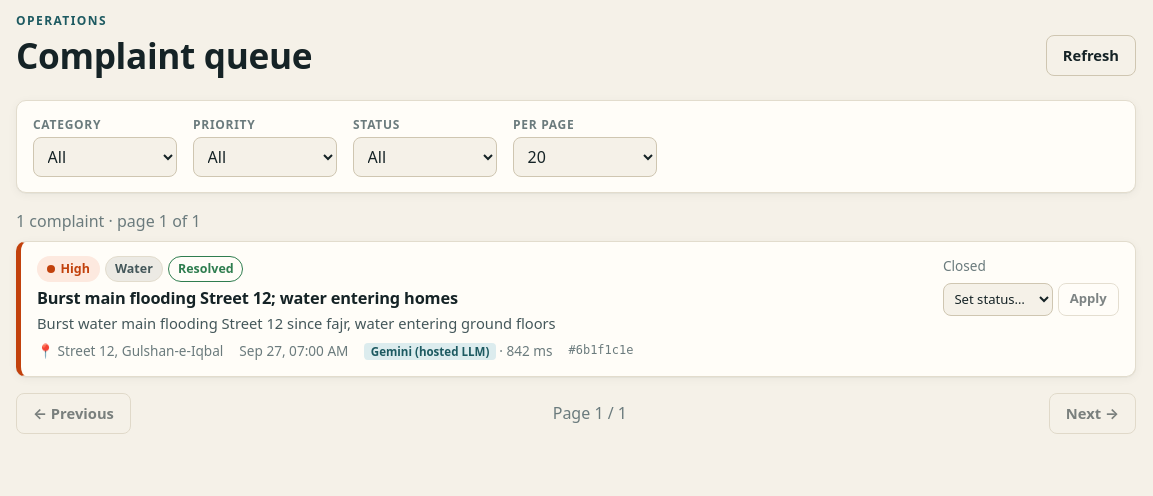
Scenario: DashboardPage › surfaces the server's 409 message verbatim, not a generic error
This screenshot has width=1153, height=496.
Select "In progress" in the dropdown named "set status manually": coordinates (998, 299) [943, 283, 1053, 316]
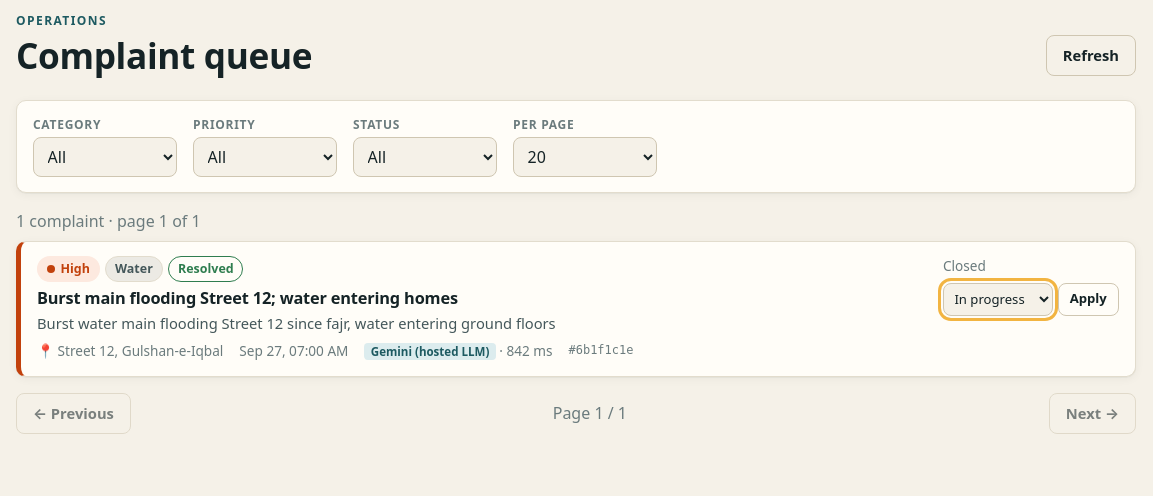
Click the button "Apply": coordinates (1088, 299) [1058, 283, 1119, 316]
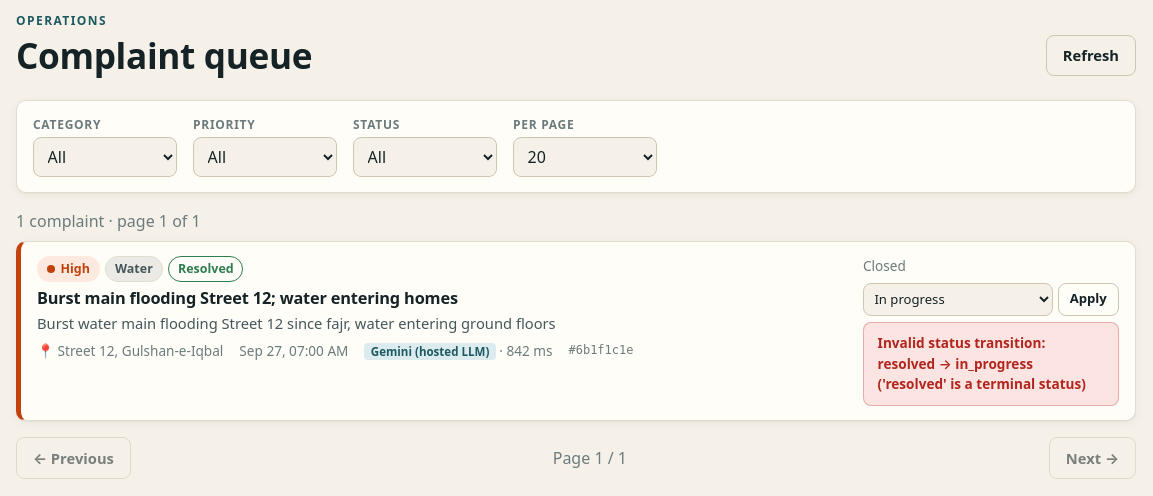
Expected: the message shows "Invalid status transition: resolved → in_progress ('resolved' is a terminal status)", [878, 333, 1086, 393]
